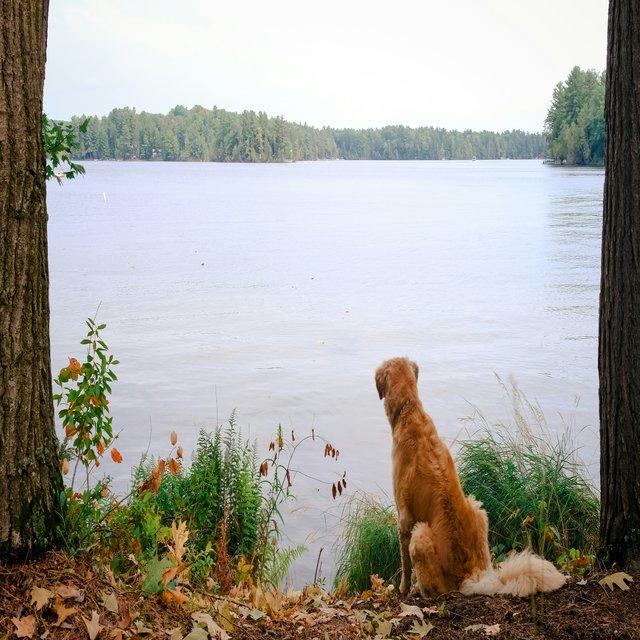retriever: (373, 355, 567, 599)
